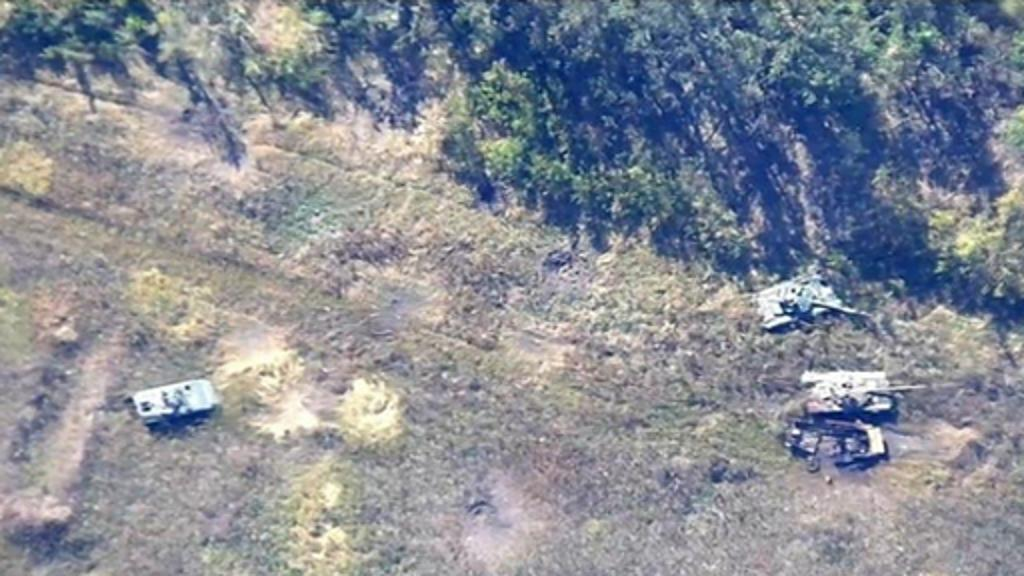APC-IFV: (118, 370, 218, 426)
TANK: (754, 266, 876, 336), (800, 368, 930, 414)
